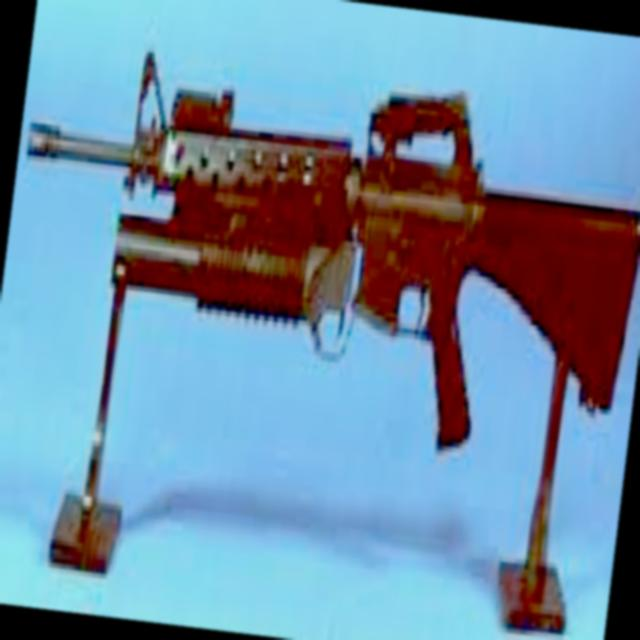m16: (72, 51, 640, 489)
